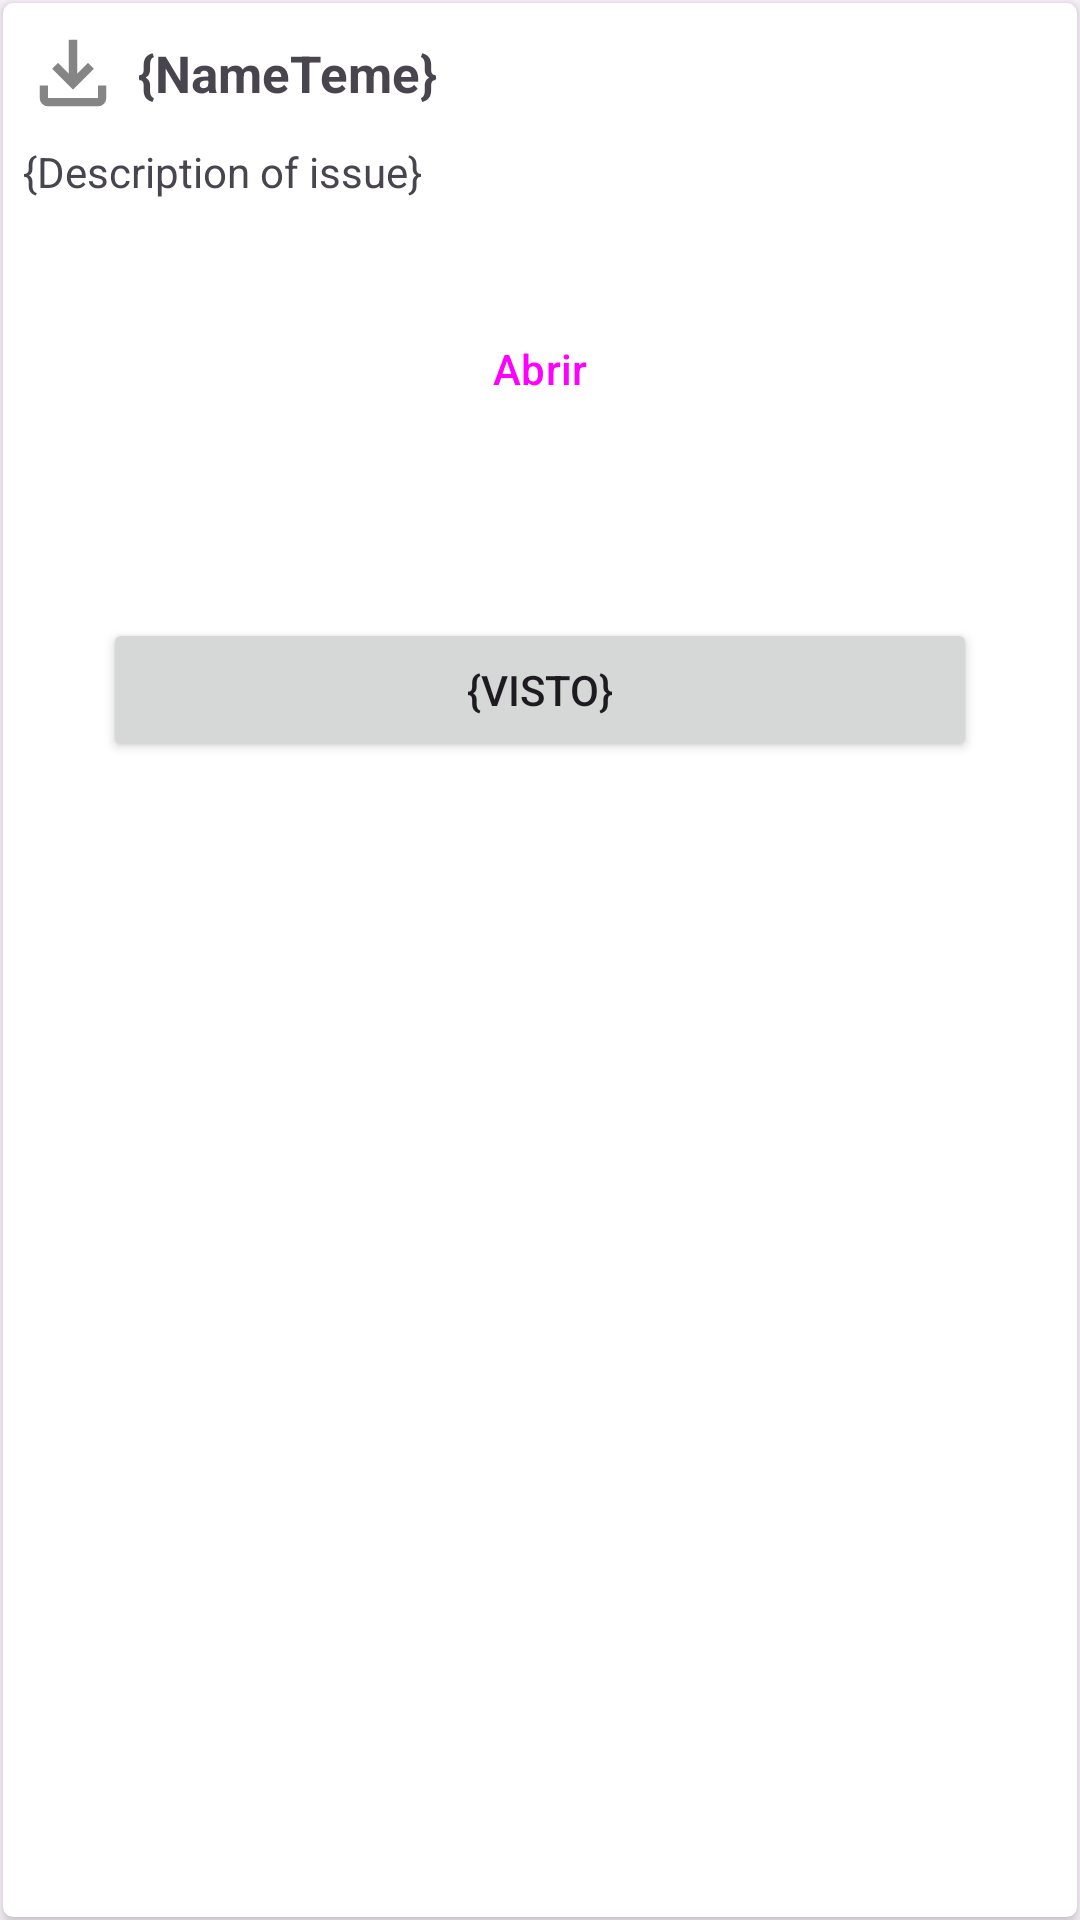

Icons on this 1080 × 1920 Android screen, each with its box as (x1, y1, x2, y2):
download: (39, 39, 107, 107)
